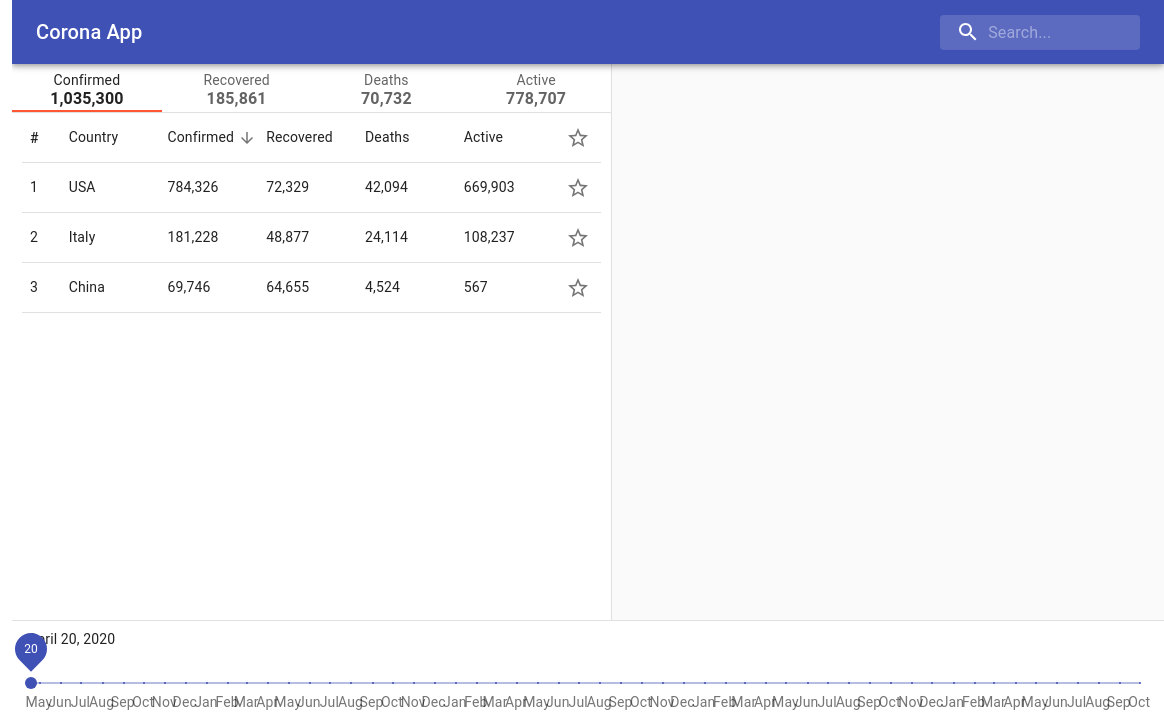
Scenario: SideBar › should display totals based on search filter
Step 1. Type "USA" into the field with placeholder "Search..." → (1040, 32), box [940,14,1140,50]
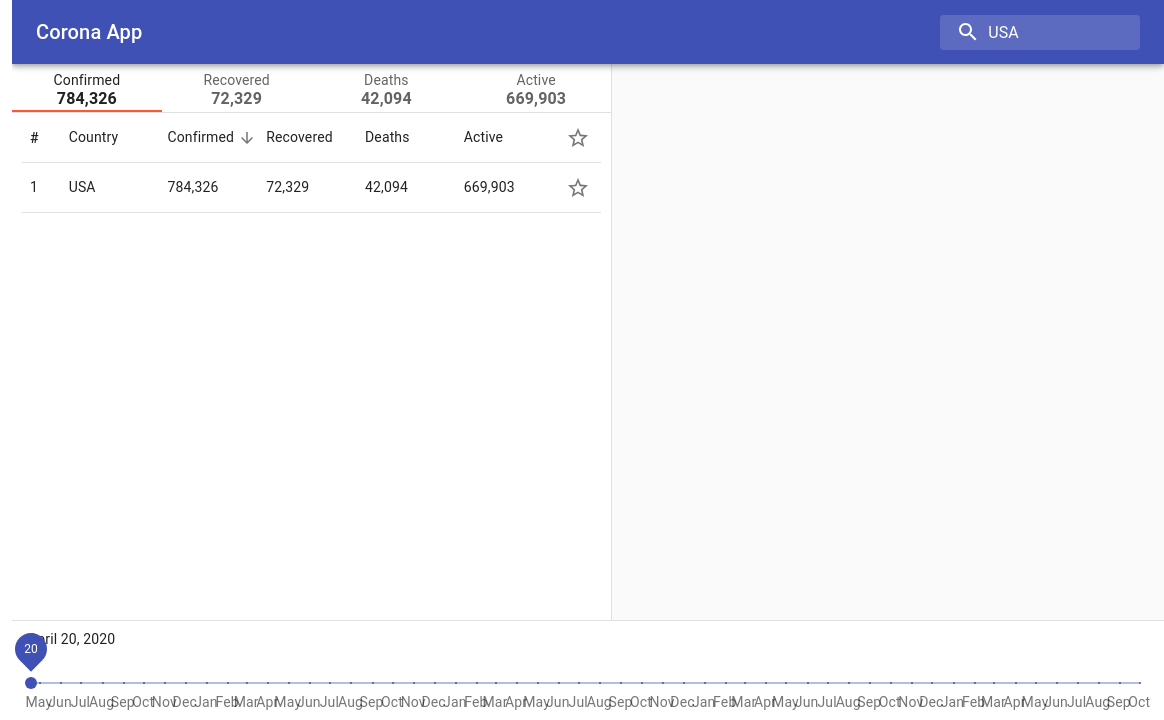
expect the text with test id "totals-tab-value" reads "784,326": met, box [57,88,117,108]
expect the text with test id "totals-tab-value" reads "72,329": met, box [211,88,262,108]
expect the text with test id "totals-tab-value" reads "42,094": met, box [361,88,412,108]
